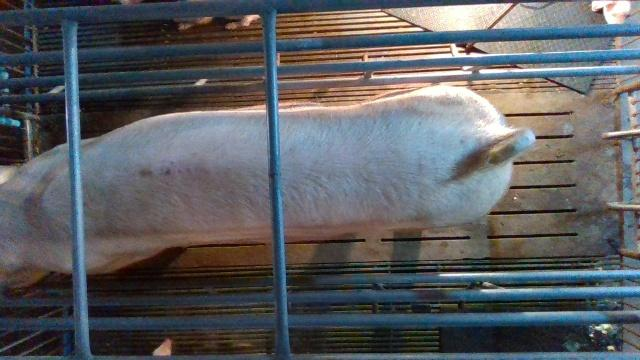sow-stand-feed: (0, 84, 538, 288)
